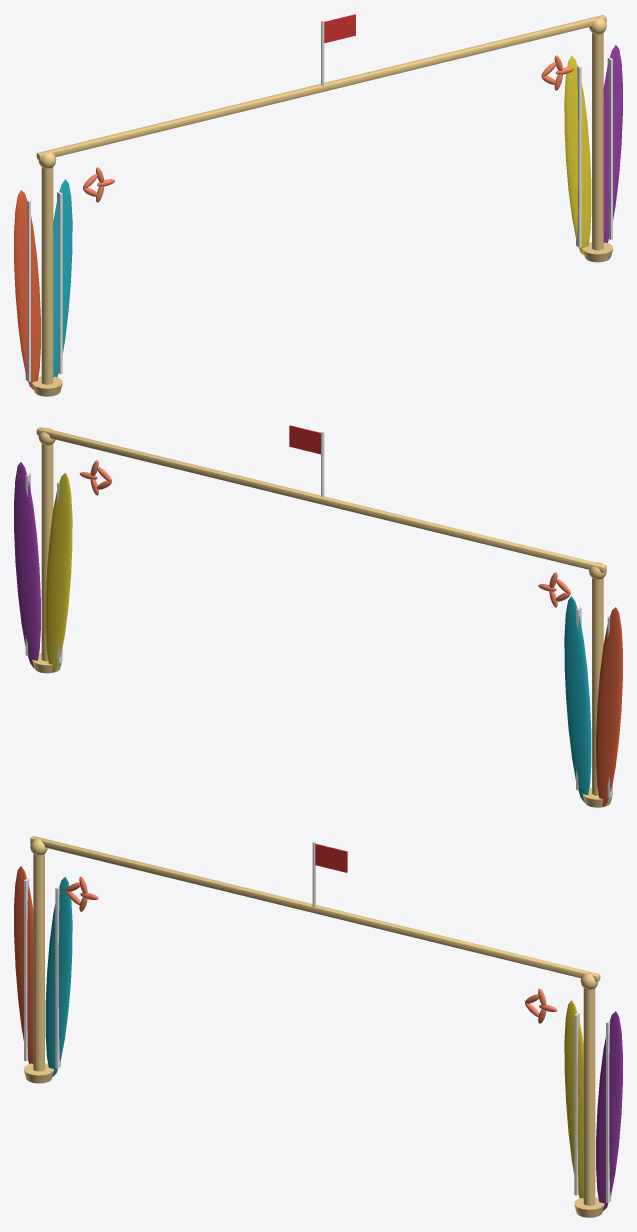
Rendered from journey_gate_beach.glb.
The picture shows the model from 3 angles, top to bottom: view 1: azimuth 30°, elevation 25°; view 2: azimuth 150°, elevation 25°; view 3: azimuth 330°, elevation 25°; orthographic projection.
Visible parts, largest first — view 1: Gate_body.002; view 2: Gate_body.002; view 3: Gate_body.002.
Part boxes in pixels (left/top/right/bottom): Gate_body.002: left=14, top=14, right=622, bottom=396; Gate_body.002: left=14, top=425, right=622, bottom=807; Gate_body.002: left=14, top=836, right=622, bottom=1217.
Bounding box in the file's own units: 21.24 × 10.1 × 0.936.
